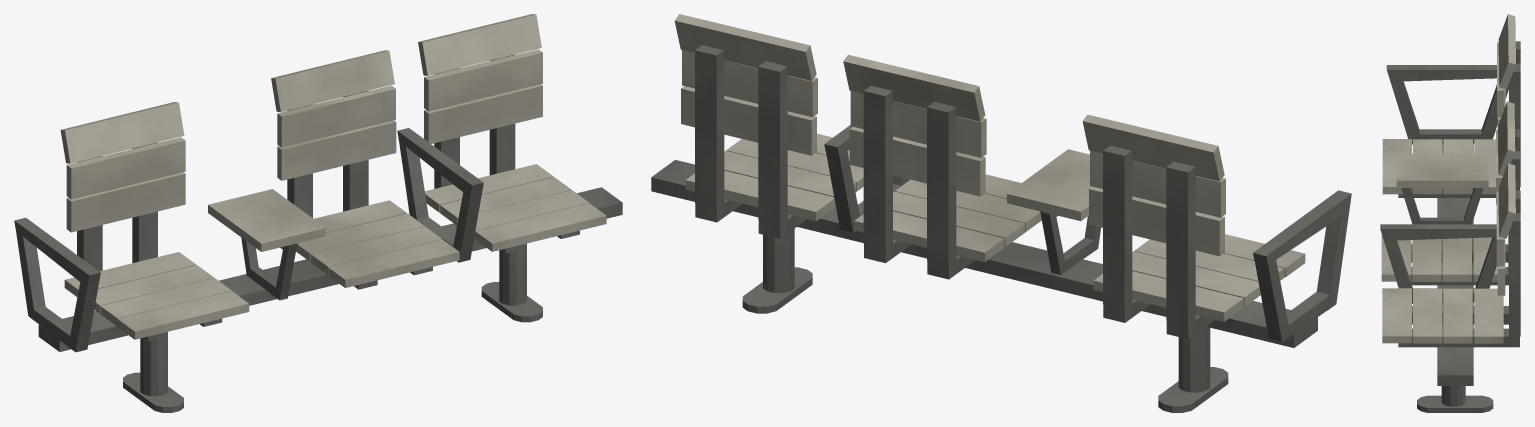
Rendered from seats_row.glb.
3 views of the same model, side by side, from view 1: azimuth 30°, elevation 25°; view 2: azimuth 150°, elevation 25°; view 3: azimuth 270°, elevation 25° (orthographic). The views are drawn at different scales.
Visible parts, largest first — view 1: seats_row; view 2: seats_row; view 3: seats_row.
Boxes of the visible parts, box(x1,y1,x2,y2) form: seats_row: box(14, 14, 622, 412); seats_row: box(651, 14, 1351, 412); seats_row: box(1380, 14, 1520, 412).
Size of the model in its own units: 1.65 by 0.7149 by 0.4146.
2 materials, 2 textured.
